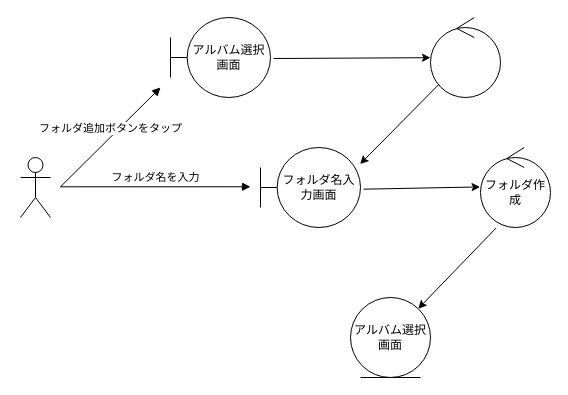
Image size: 568x395. Some labels were removed from this diagram. The centre of each missing label's shape, as x and y in pixels:
"フォルダ名入力ウインドウ表示" belongs at point 465,57.
"ユーザ" belongs at point 35,187.
